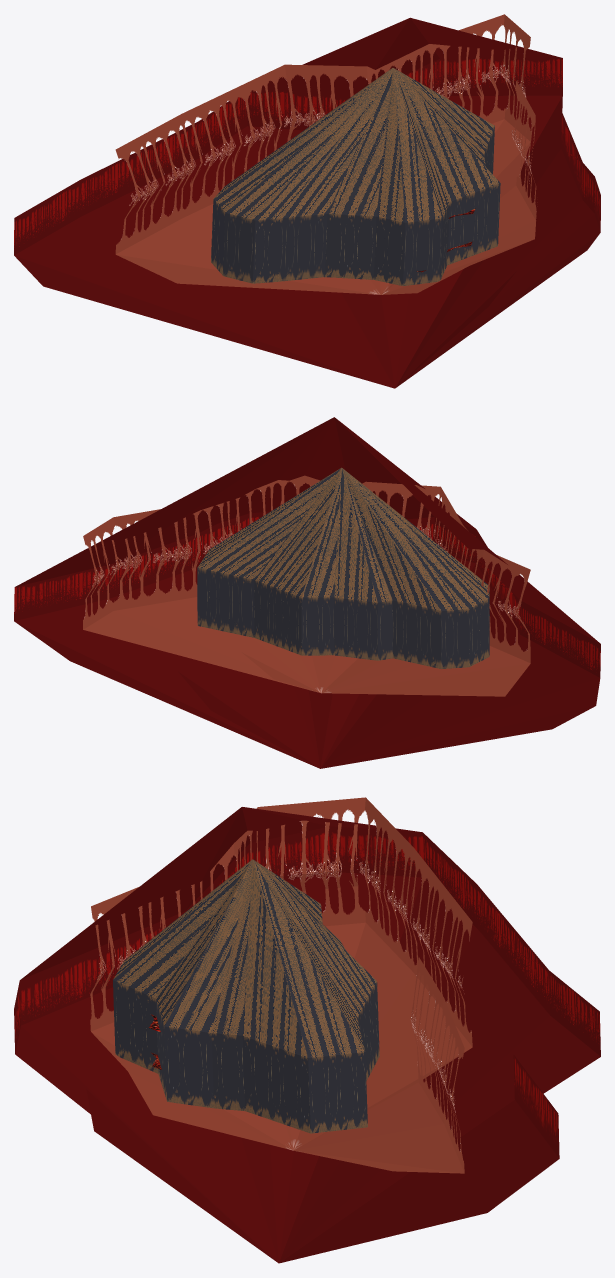
The model's file is terrain.glb.
The picture shows the model from 3 angles, top to bottom: view 1: azimuth 30°, elevation 25°; view 2: azimuth 150°, elevation 25°; view 3: azimuth 270°, elevation 25°; orthographic projection. The views are drawn at different scales.
Visible parts, largest first — view 1: trees far_1, black trees far_5, brown trees_4; view 2: trees far_1, black trees far_5, brown trees_4; view 3: trees far_1, black trees far_5, brown trees_4.
Boxes of the visible parts, x1,y1,x2,y2 form: trees far_1: (14, 17, 600, 388); black trees far_5: (211, 68, 500, 285); brown trees_4: (115, 14, 537, 294); trees far_1: (14, 417, 600, 768); black trees far_5: (197, 467, 489, 668); brown trees_4: (83, 475, 530, 696); trees far_1: (14, 807, 600, 1263); black trees far_5: (113, 859, 379, 1133); brown trees_4: (90, 797, 472, 1173).
Bounding box in the file's own units: 93.58 × 58.39 × 68.03.
6 materials, 6 textured.
